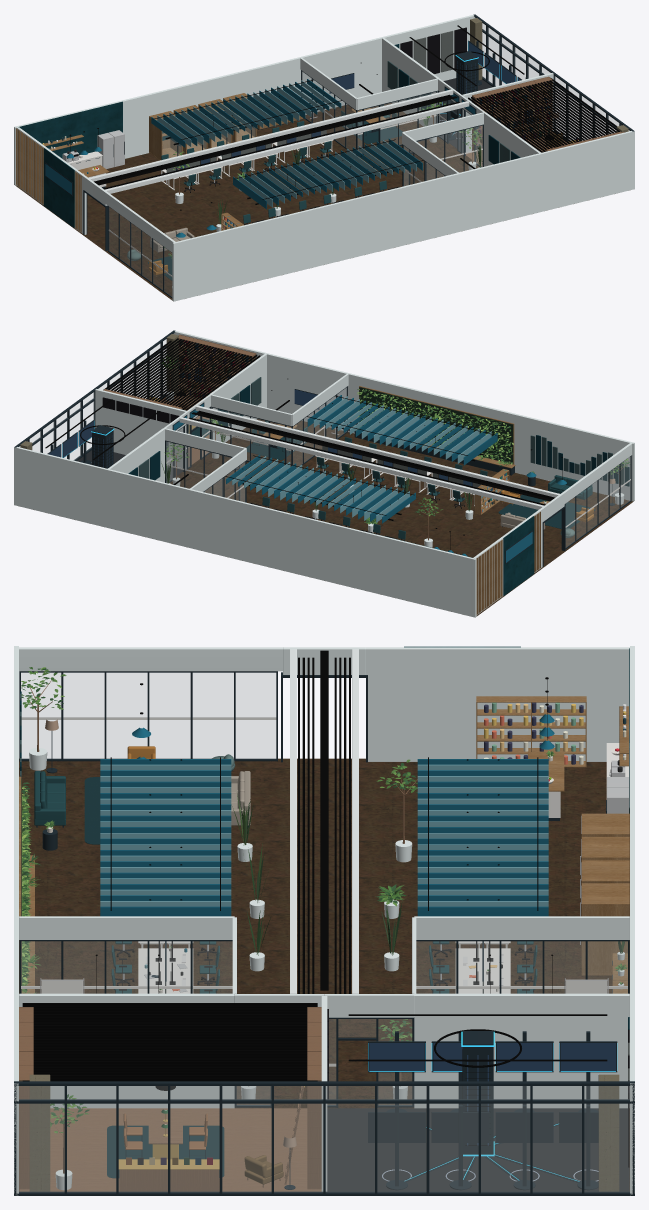
Rendered from wing-ocean.glb.
The picture shows the model from 3 angles, top to bottom: view 1: azimuth 30°, elevation 25°; view 2: azimuth 150°, elevation 25°; view 3: azimuth 270°, elevation 25°; orthographic projection. The views are drawn at different scales.
Visible parts, largest first — view 1: wing-ocean-baked-paint-wall, wing-ocean-baked-floor, wing-ocean-ceiling-felt, wing-ocean-glass-glass, wing-ocean-ceiling-wood, wing-ocean-baked-metal-dark, wing-ocean-baked-wood, wing-ocean-baked-plaster-accent, wing-ocean-baked-felt, wing-ocean-ceiling-ceiling, wing-ocean-baked-fabric, wing-ocean-baked-wood-dark (+8 smaller); view 2: wing-ocean-baked-paint-wall, wing-ocean-baked-floor, wing-ocean-ceiling-felt, wing-ocean-glass-glass, wing-ocean-ceiling-wood, wing-ocean-baked-metal-dark, wing-ocean-baked-felt, wing-ocean-baked-paint, wing-ocean-ceiling-ceiling, wing-ocean-baked-wood, wing-ocean-baked-foliage, wing-ocean-baked-fabric (+7 smaller); view 3: wing-ocean-glass-glass, wing-ocean-baked-paint-wall, wing-ocean-baked-floor, wing-ocean-ceiling-felt, wing-ocean-baked-metal-dark, wing-ocean-ceiling-wood, wing-ocean-baked-wood-dark, wing-ocean-baked-paint, wing-ocean-baked-wood, wing-ocean-baked-powder-white, wing-ocean-baked-fabric, wing-ocean-baked-foliage (+14 smaller).
Part boxes in pixels (x1,y1,x2,y2): wing-ocean-baked-paint-wall: (14, 15, 634, 301); wing-ocean-baked-floor: (15, 103, 478, 300); wing-ocean-ceiling-felt: (151, 79, 422, 209); wing-ocean-glass-glass: (104, 23, 621, 296); wing-ocean-ceiling-wood: (94, 78, 619, 189); wing-ocean-baked-metal-dark: (45, 14, 634, 298); wing-ocean-baked-wood: (16, 93, 385, 232); wing-ocean-baked-plaster-accent: (18, 101, 122, 227); wing-ocean-baked-felt: (148, 27, 520, 280); wing-ocean-ceiling-ceiling: (89, 89, 469, 193); wing-ocean-baked-fabric: (127, 104, 558, 275); wing-ocean-baked-wood-dark: (150, 76, 624, 276); wing-ocean-baked-paint-wall: (14, 331, 634, 617); wing-ocean-baked-floor: (169, 419, 633, 616); wing-ocean-ceiling-felt: (226, 395, 497, 523); wing-ocean-glass-glass: (27, 339, 630, 547); wing-ocean-ceiling-wood: (103, 338, 554, 505); wing-ocean-baked-metal-dark: (14, 330, 631, 566); wing-ocean-baked-felt: (102, 377, 629, 528); wing-ocean-baked-paint: (77, 339, 535, 540); wing-ocean-ceiling-ceiling: (179, 405, 559, 509); wing-ocean-baked-wood: (263, 386, 549, 614); wing-ocean-baked-foliage: (161, 354, 630, 524); wing-ocean-baked-fabric: (179, 403, 615, 539); wing-ocean-glass-glass: (19, 673, 629, 1192); wing-ocean-baked-paint-wall: (14, 646, 634, 1195); wing-ocean-baked-floor: (19, 758, 629, 1191); wing-ocean-ceiling-felt: (100, 759, 548, 916); wing-ocean-baked-metal-dark: (14, 671, 634, 1195); wing-ocean-ceiling-wood: (22, 657, 350, 1081); wing-ocean-baked-wood-dark: (19, 680, 417, 1191); wing-ocean-baked-paint: (21, 778, 629, 1191); wing-ocean-baked-wood: (19, 696, 629, 993); wing-ocean-baked-powder-white: (21, 717, 627, 1066); wing-ocean-baked-fabric: (34, 719, 537, 1149); wing-ocean-baked-foliage: (21, 667, 627, 1133).
Size of what is drawn, in the model's own units: 30 by 3.63 by 18.
28 materials, 9 textured.
